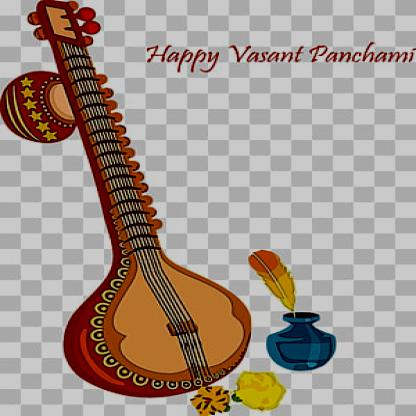Veena: (44, 3, 229, 412)
